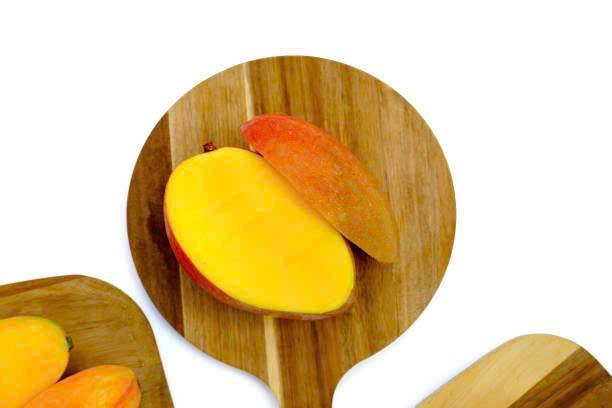mango: (173, 130, 398, 331)
